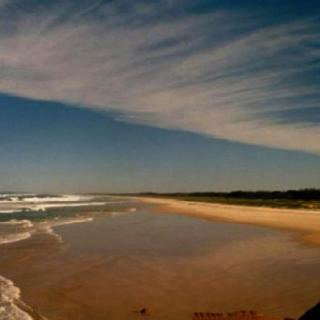Cirrus: (0, 0, 320, 167)
